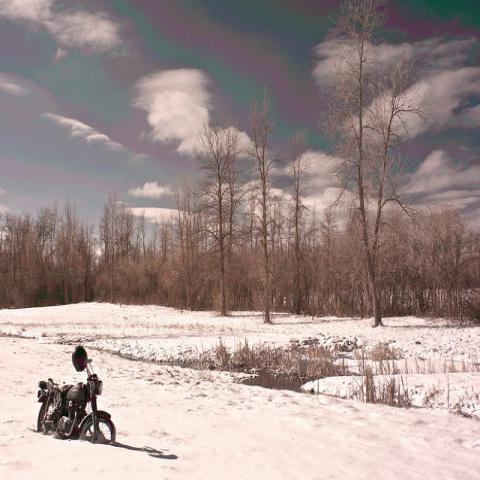motorcycle: (36, 345, 118, 445)
